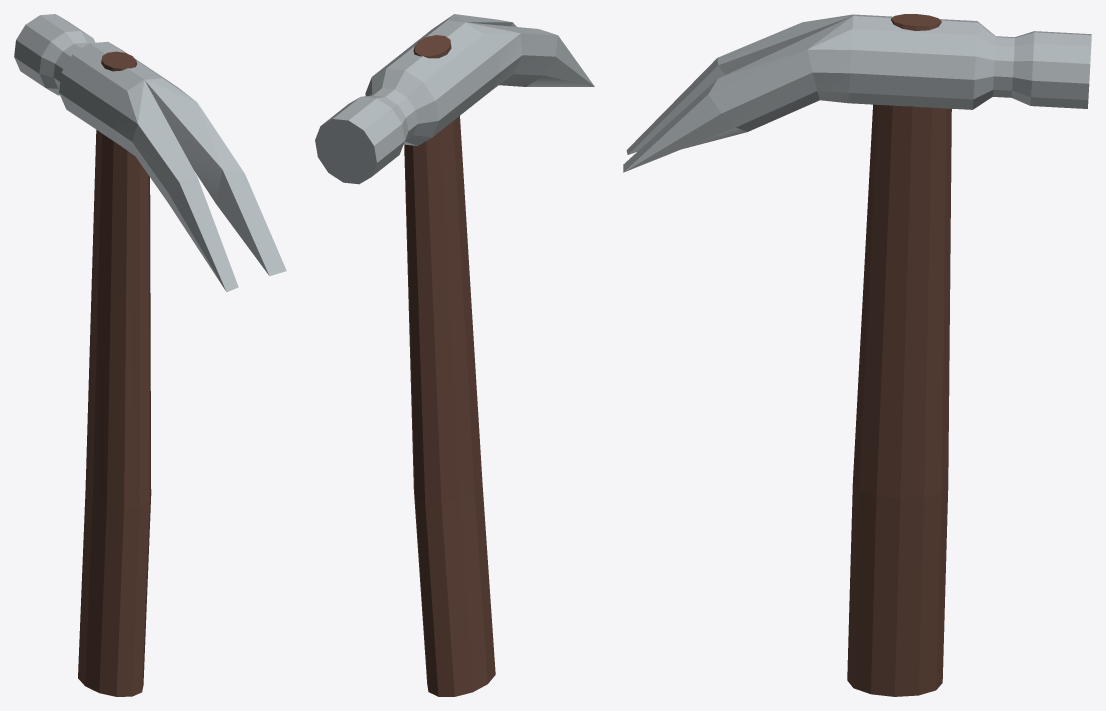
The picture shows the model from 3 angles, left to right: view 1: azimuth 30°, elevation 25°; view 2: azimuth 150°, elevation 25°; view 3: azimuth 270°, elevation 25°; orthographic projection. The views are drawn at different scales.
Visible parts, largest first — view 1: node_MeshObject-1254498304-PolyPaper18; view 2: node_MeshObject-1254498304-PolyPaper18; view 3: node_MeshObject-1254498304-PolyPaper18.
Boxes of the visible parts, left/top/right/bottom form: node_MeshObject-1254498304-PolyPaper18: left=14, top=14, right=286, bottom=696; node_MeshObject-1254498304-PolyPaper18: left=315, top=14, right=594, bottom=696; node_MeshObject-1254498304-PolyPaper18: left=623, top=14, right=1091, bottom=696.
Bounding box in the file's own units: 0.0445 × 0.3209 × 0.2017.
